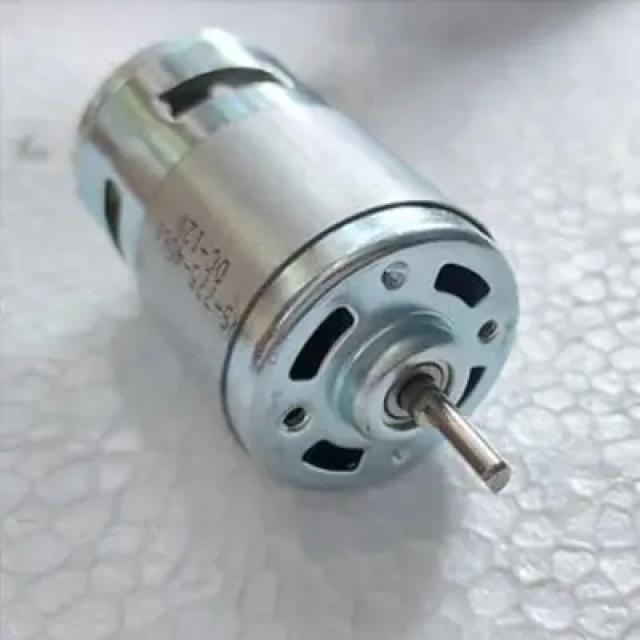motor: (64, 25, 530, 512)
